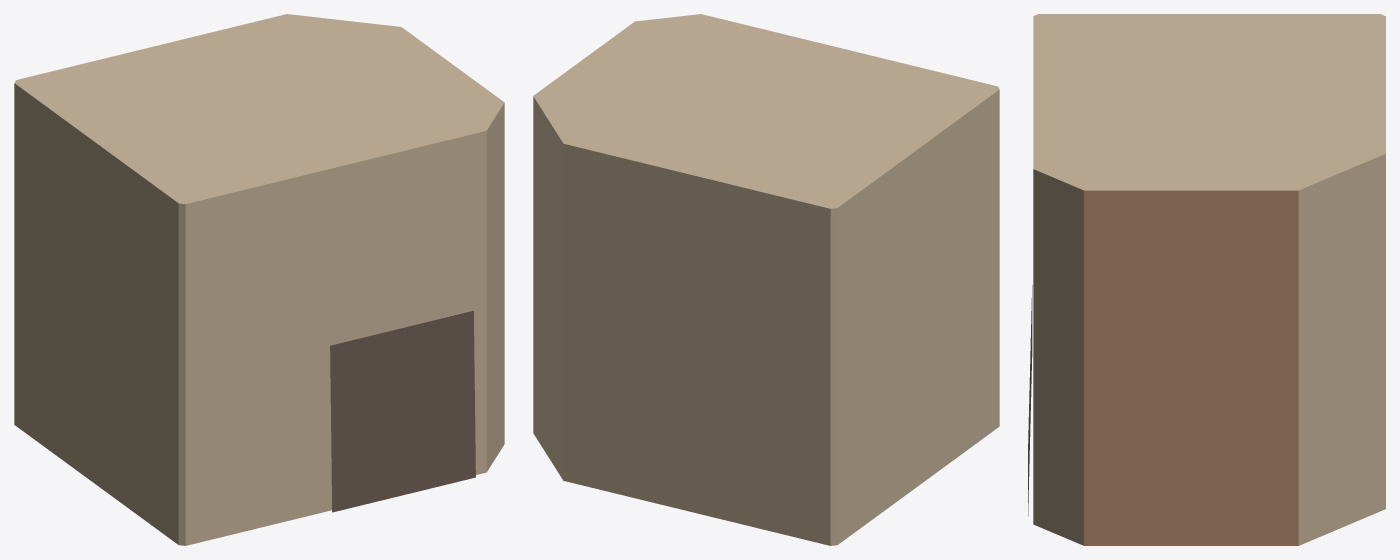
File: loin-etape-1.glb
3 views of the same model, side by side, from view 1: azimuth 30°, elevation 25°; view 2: azimuth 150°, elevation 25°; view 3: azimuth 270°, elevation 25° (orthographic). The views are drawn at different scales.
Visible parts, largest first — view 1: loin; view 2: loin; view 3: loin.
Part boxes in pixels (left/top/right/bottom): loin: left=14, top=14, right=504, bottom=545; loin: left=533, top=14, right=999, bottom=545; loin: left=1028, top=14, right=1385, bottom=545.
Size of the model in its own units: 0.7853 by 0.7373 by 0.6725.
